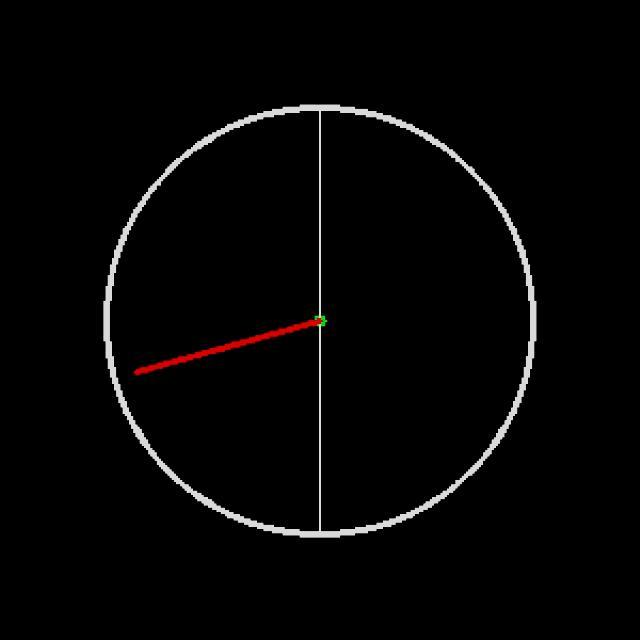Needle_Tip: (114, 349, 161, 391)
Needle_base: (280, 284, 342, 357)
